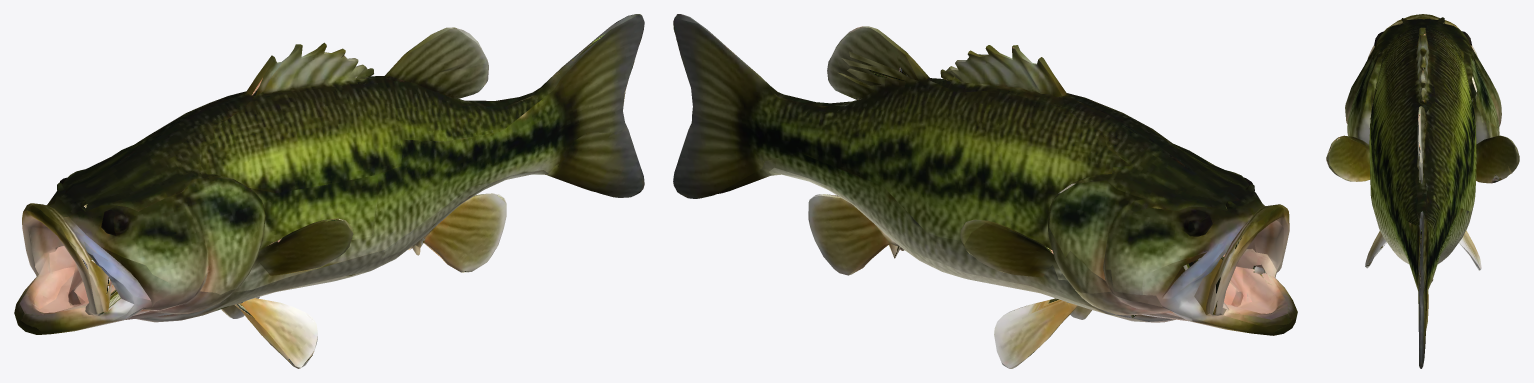
Rendered from largemouth_bass.glb.
3 views of the same model, side by side, from view 1: azimuth 30°, elevation 25°; view 2: azimuth 150°, elevation 25°; view 3: azimuth 270°, elevation 25° (orthographic). The views are drawn at different scales.
Visible parts, largest first — view 1: world; view 2: world; view 3: world.
Part boxes in pixels (x1,y1,x2,y2): world: (14, 14, 644, 368); world: (673, 14, 1297, 368); world: (1326, 14, 1519, 368).
Bounding box in the file's own units: 1 × 0.4499 × 0.3188.
Materials: 1 (1 with a texture image).
